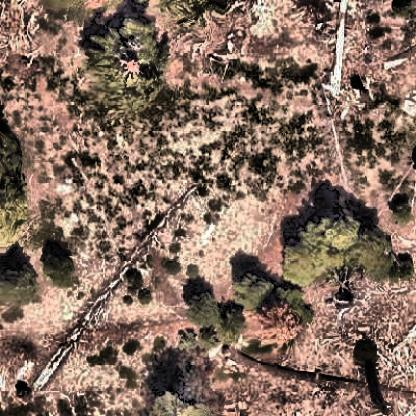tree-top: (281, 210, 400, 288), (84, 14, 174, 108), (240, 270, 313, 351), (188, 288, 249, 354), (129, 387, 230, 416), (1, 124, 29, 214), (1, 257, 39, 305), (41, 249, 81, 290), (389, 251, 416, 285), (386, 197, 416, 226)
